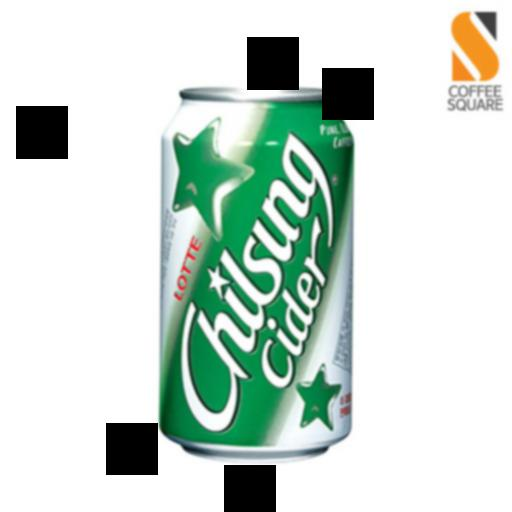chilsungcider: (141, 74, 373, 468)
